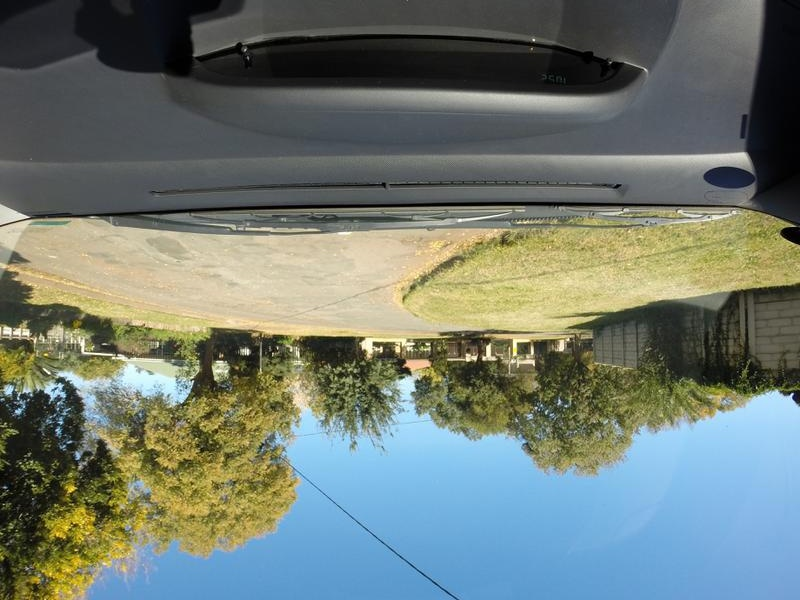pothole: (402, 235, 451, 252)
